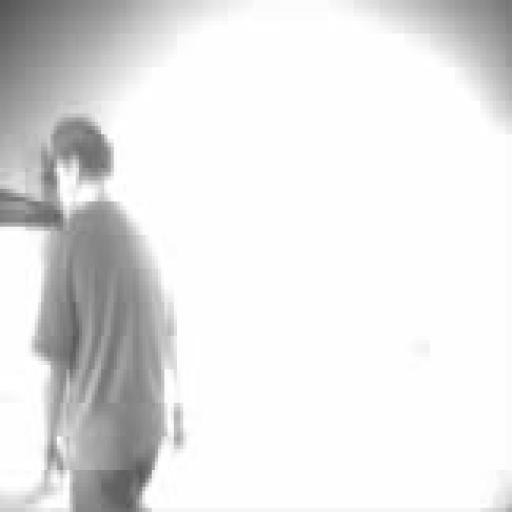human: (35, 118, 176, 511)
